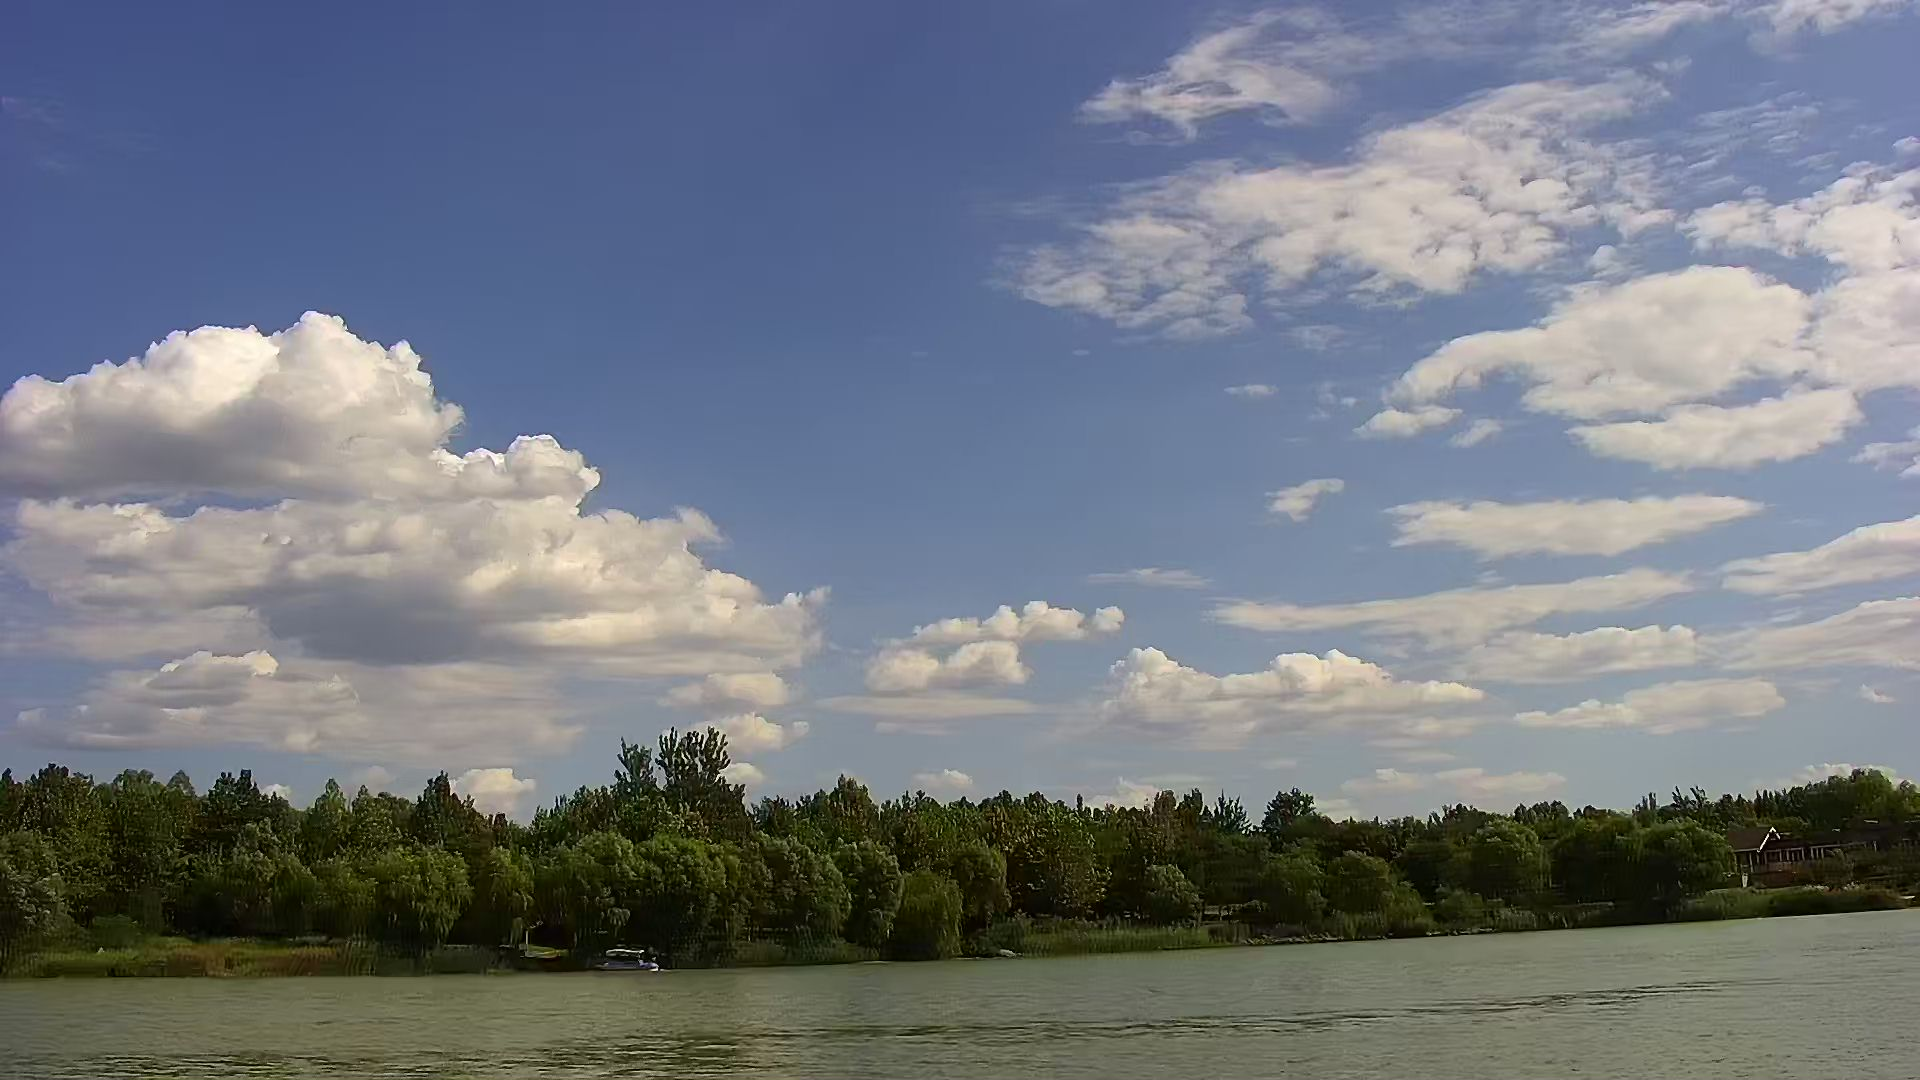boat: (585, 942, 661, 978)
